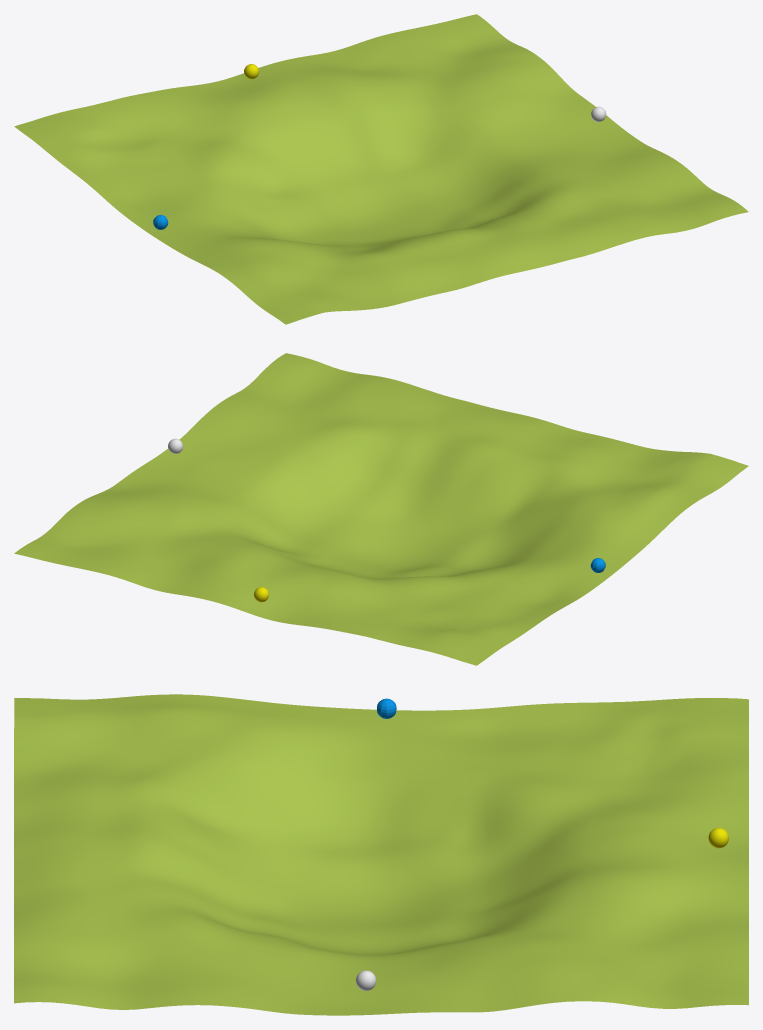
File: marqueurs_bosse_neg4.fbx
The picture shows the model from 3 angles, top to bottom: view 1: azimuth 30°, elevation 25°; view 2: azimuth 150°, elevation 25°; view 3: azimuth 270°, elevation 25°; orthographic projection. The views are drawn at different scales.
Parts seen in each view (by area): view 1: bosse_neg4; view 2: bosse_neg4; view 3: bosse_neg4.
Part boxes in pixels (x1,y1,x2,y2): bosse_neg4: (14,14,748,324); bosse_neg4: (14,353,748,665); bosse_neg4: (14,694,748,1015).
Bounding box in the file's own units: 708 × 90.19 × 720.
